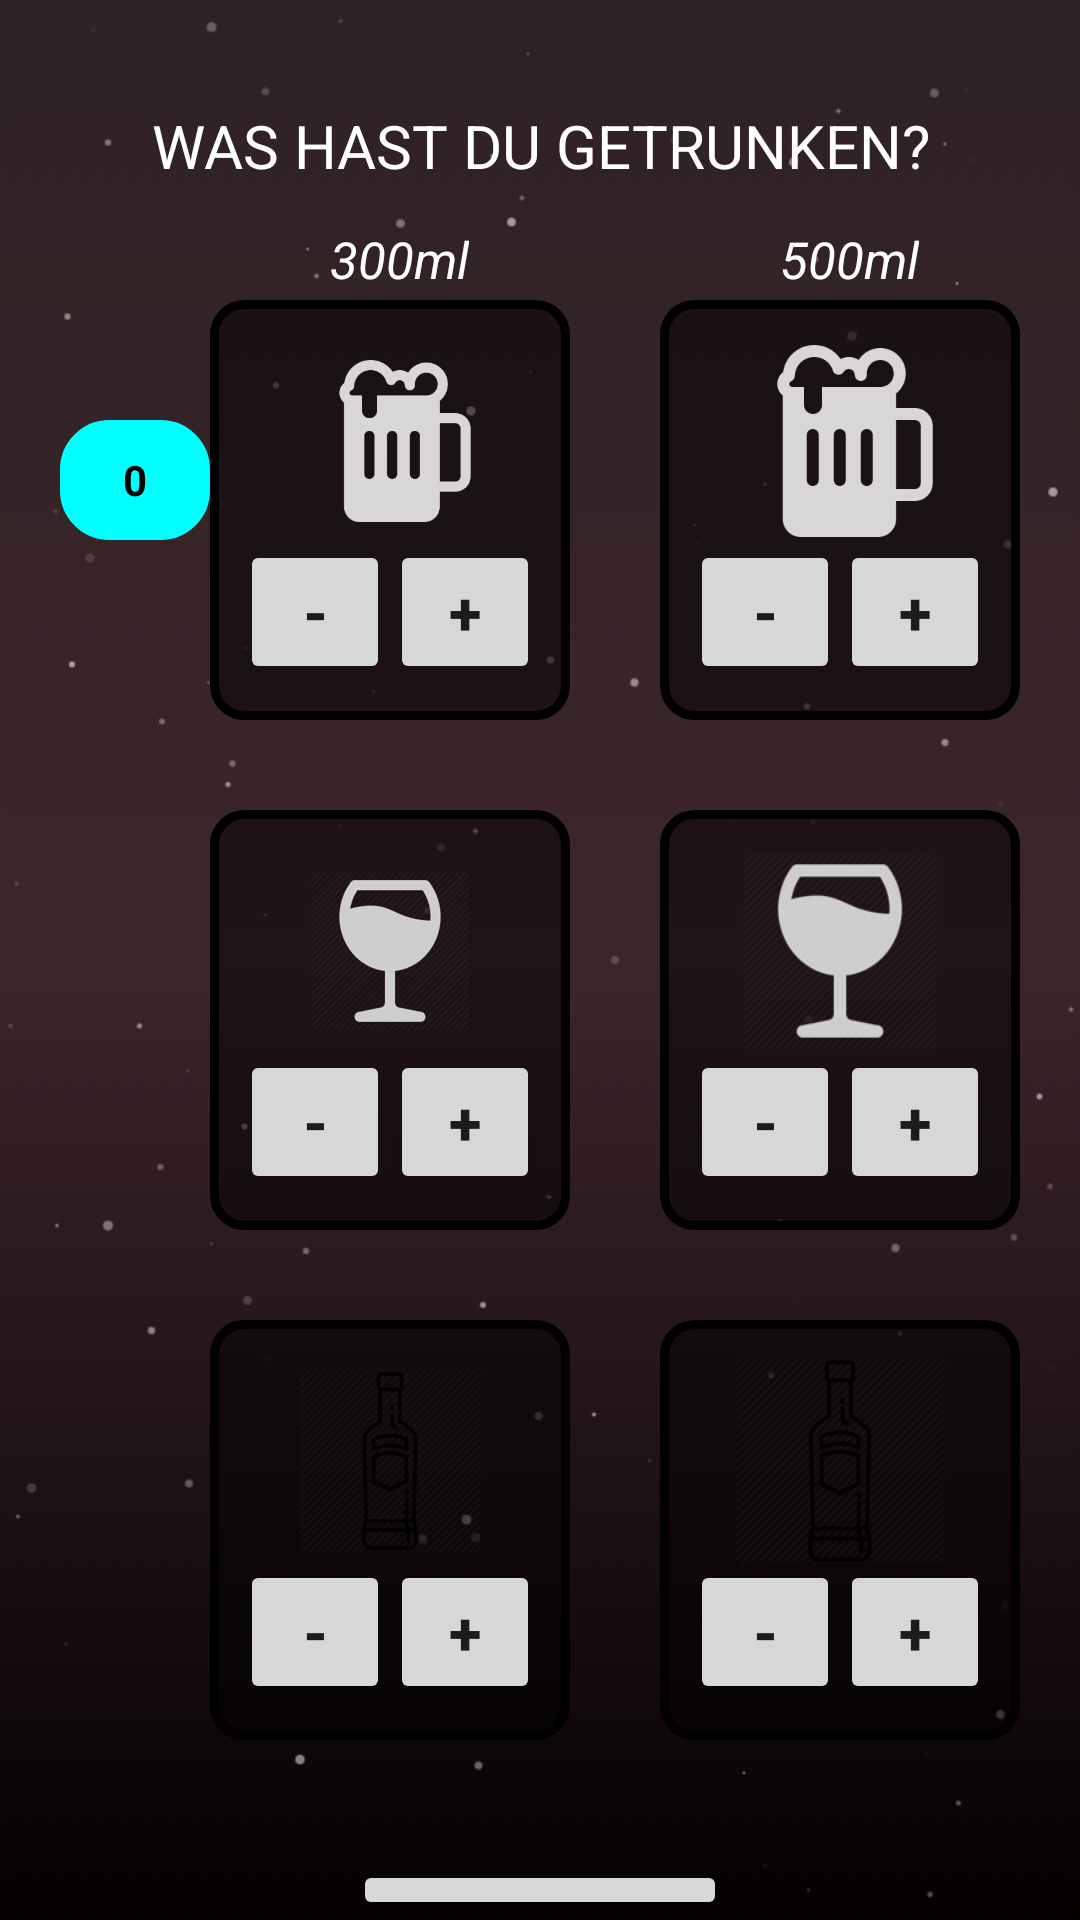

Point at icon controls on the screen. Image size 1080 x 1920, points as point (x, y).
beer: point (848, 434), point (374, 441)
wine: point (371, 926), point (840, 951)
